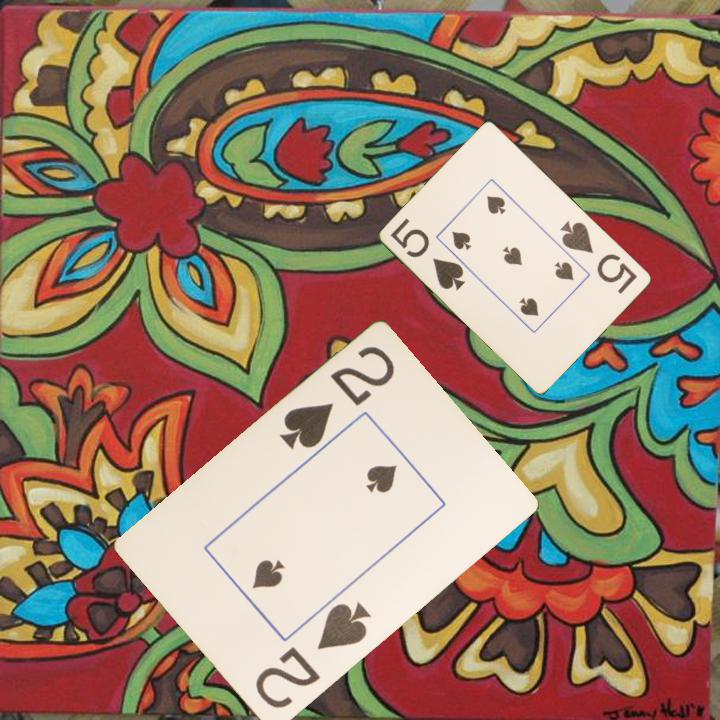2s: (251, 598, 374, 713), (276, 343, 398, 454)
5s: (557, 217, 640, 297), (387, 214, 469, 294)
